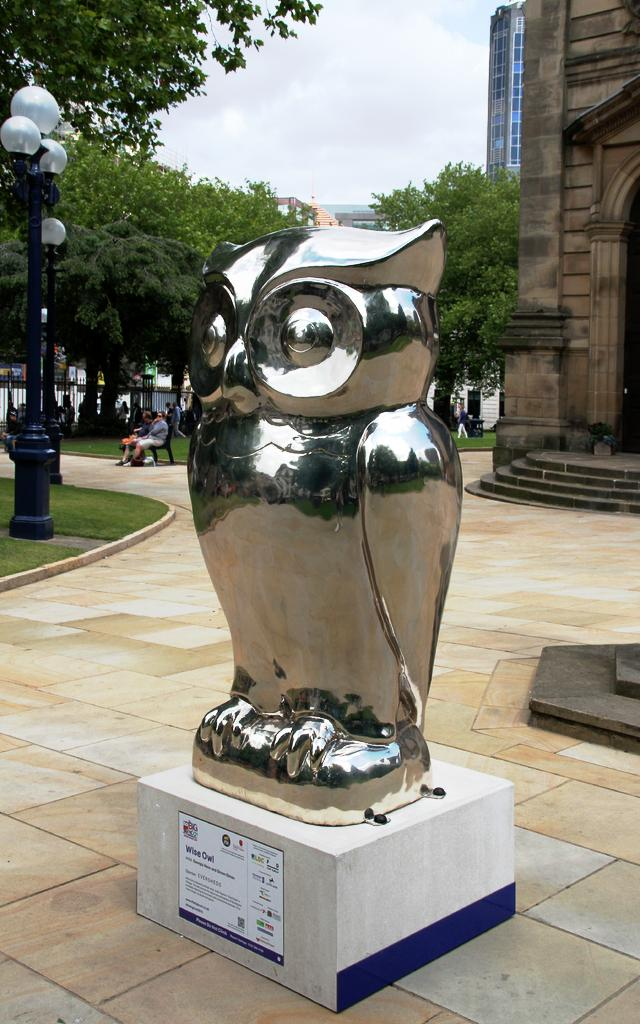Owl: (178, 222, 476, 828)
